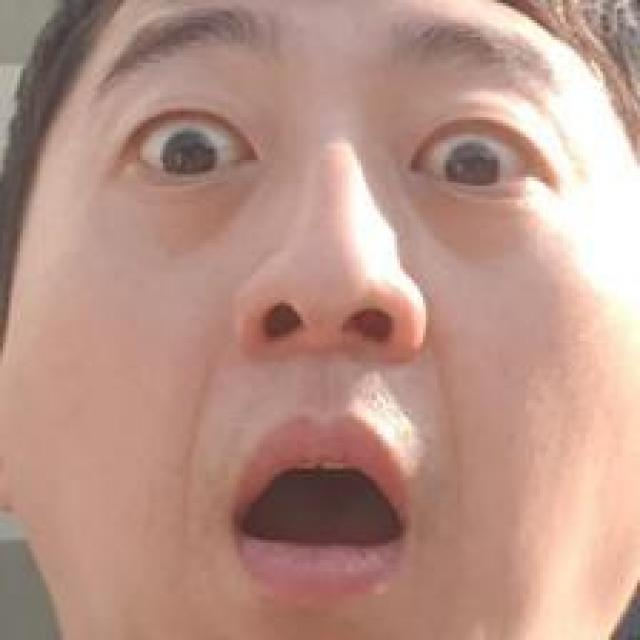fear: (114, 5, 563, 632)
